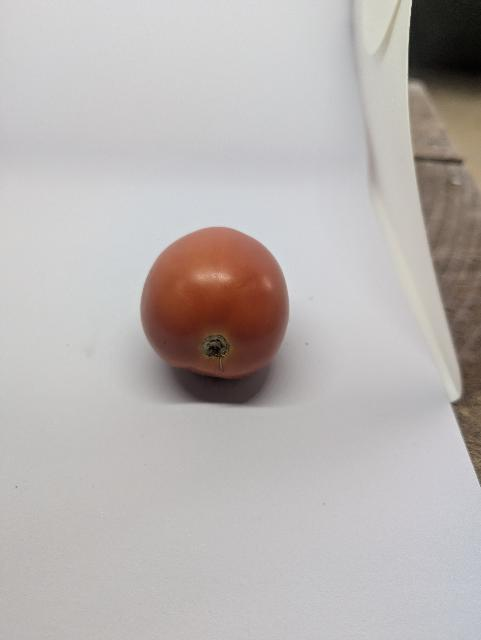red: (132, 217, 300, 403)
